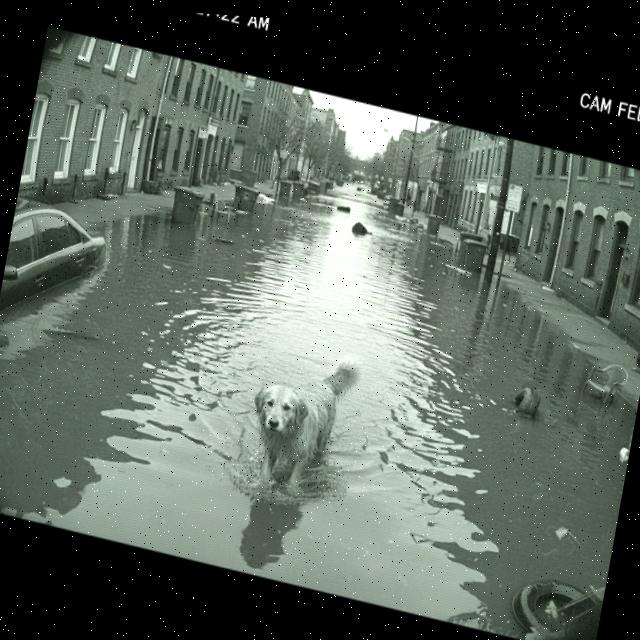dog: (217, 320, 383, 522)
